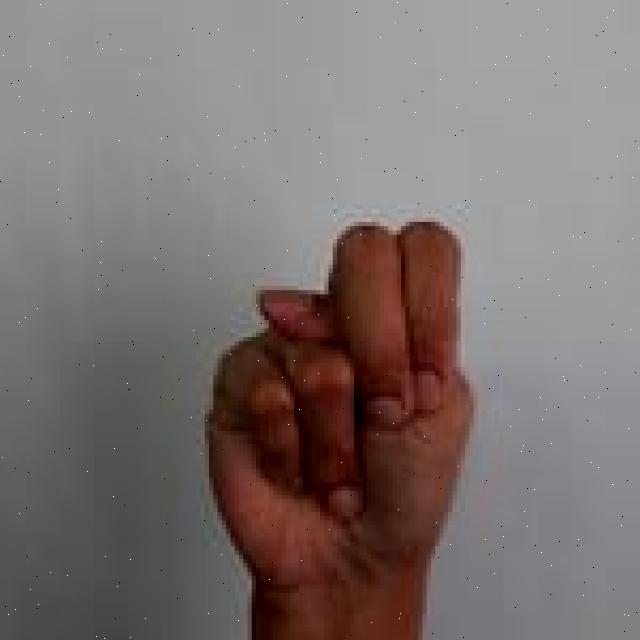N: (196, 209, 483, 640)
